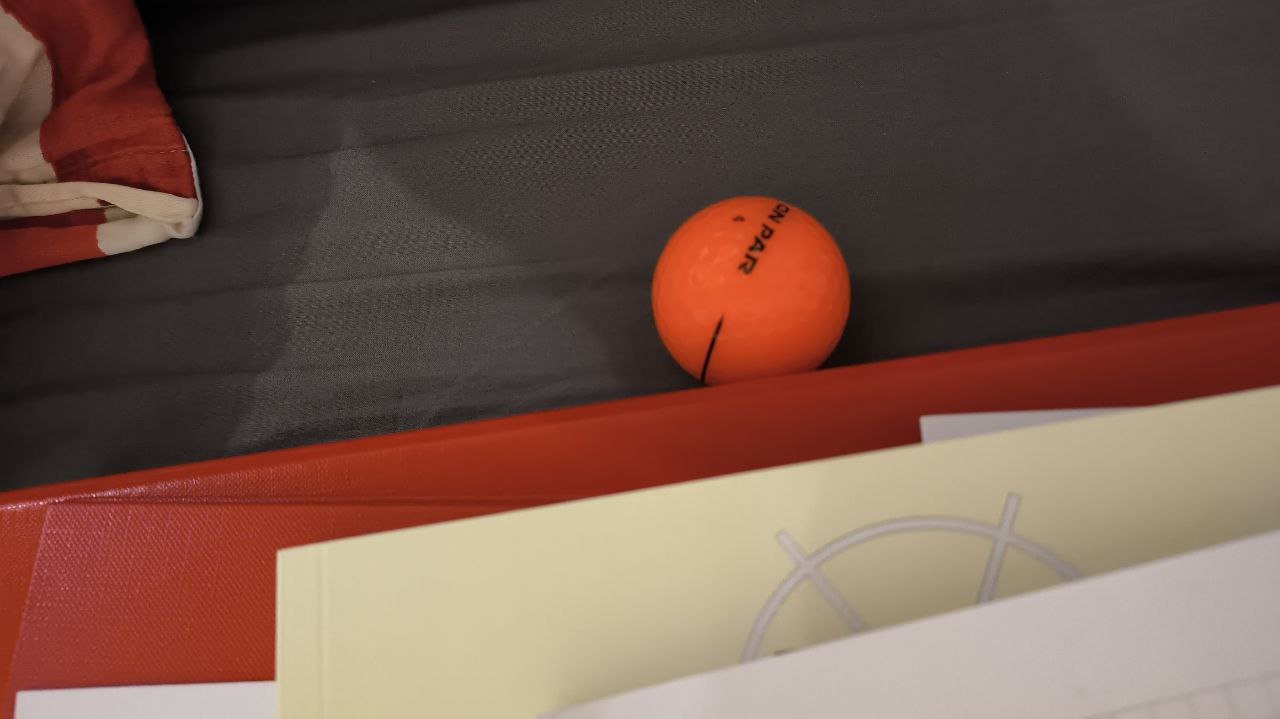orange_ball: (649, 195, 852, 385)
